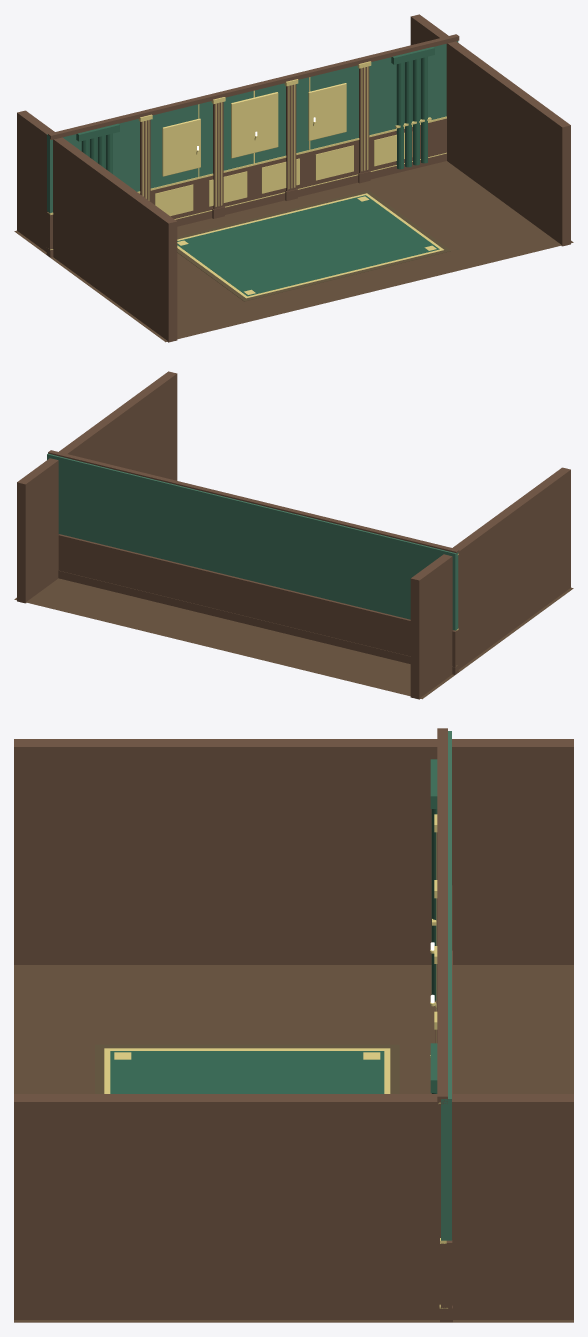
The model's file is room_classic_club.glb.
3 renders of one model, top to bottom at view 1: azimuth 30°, elevation 25°; view 2: azimuth 150°, elevation 25°; view 3: azimuth 270°, elevation 25°, orthographic. The views are drawn at different scales.
Visible parts, largest first — view 1: Floor, SideWall_Left, SideWall_Right, ClubRug_Inner, BackWall_Upper, BackWall_Lower, CrownMolding, FrameOuter_CenterGrandArt, ClubRug_Outer, FrameOuter_RightArt, FrameOuter_LeftArt, Baseboard (+15 smaller); view 2: BackWall_Upper, SideWall_Left, BackWall_Lower, Floor, SideWall_Right, Baseboard, CrownMolding; view 3: SideWall_Right, SideWall_Left, Floor, ClubRug_Inner, CrownMolding, BackWall_Upper, ClubRug_Outer, ClubRug_Stripe, BackWall_Lower, DraperyFold_Left_3.
Part boxes in pixels (x1,y1,x2,y2): Floor: [14, 161, 573, 342]; SideWall_Left: [17, 110, 177, 342]; SideWall_Right: [410, 14, 570, 246]; ClubRug_Inner: [177, 195, 439, 296]; BackWall_Upper: [47, 41, 458, 212]; BackWall_Lower: [47, 118, 446, 249]; CrownMolding: [48, 34, 459, 139]; FrameOuter_CenterGrandArt: [231, 92, 278, 158]; ClubRug_Outer: [177, 190, 450, 301]; FrameOuter_RightArt: [308, 83, 346, 140]; FrameOuter_LeftArt: [162, 118, 200, 176]; Baseboard: [46, 153, 446, 257]; BackWall_Upper: [47, 453, 458, 630]; SideWall_Left: [410, 467, 570, 699]; BackWall_Lower: [58, 534, 458, 667]; Floor: [14, 578, 573, 699]; SideWall_Right: [17, 371, 177, 603]; Baseboard: [58, 570, 458, 674]; CrownMolding: [48, 450, 459, 553]; SideWall_Right: [14, 1094, 573, 1319]; SideWall_Left: [14, 739, 573, 964]; Floor: [14, 965, 573, 1322]; ClubRug_Inner: [110, 1051, 384, 1093]; CrownMolding: [437, 728, 447, 1104]; BackWall_Upper: [441, 731, 451, 1240]; ClubRug_Outer: [95, 1044, 399, 1093]; ClubRug_Stripe: [104, 1048, 390, 1093]; BackWall_Lower: [440, 885, 452, 1308]; DraperyFold_Left_3: [431, 809, 437, 1000].
Size of the model in its own units: 28 by 8.09 by 18.
